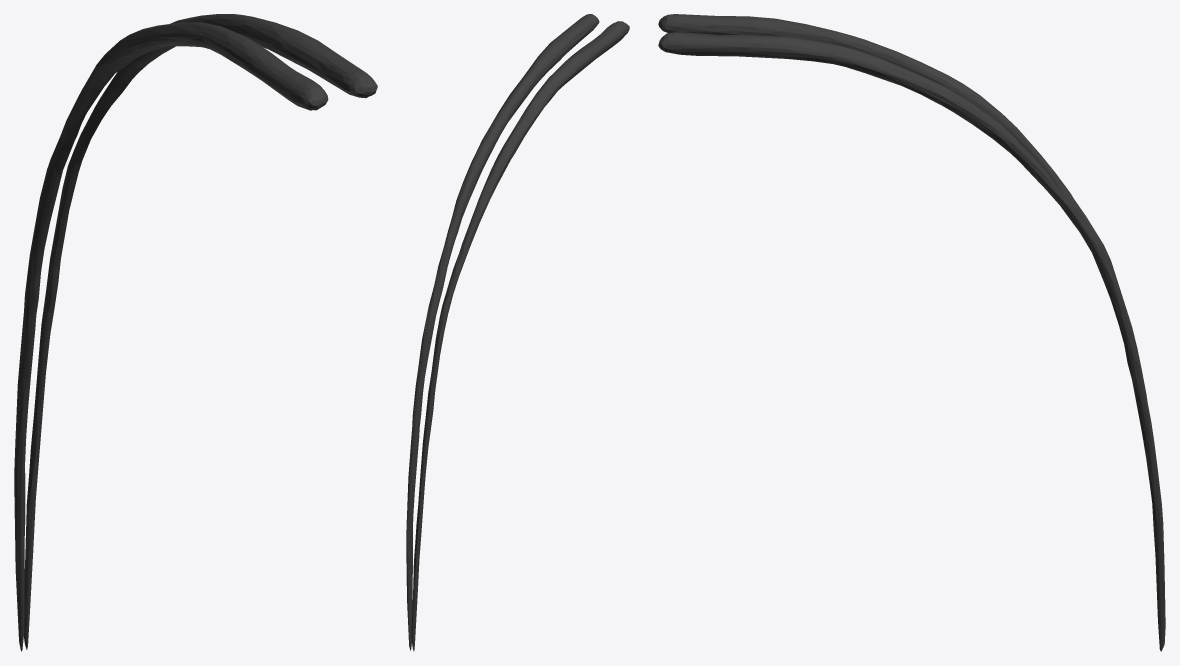
Rendered from m_sacrocaudalis_ventralis_medialis.glb.
3 views of the same model, side by side, from view 1: azimuth 30°, elevation 25°; view 2: azimuth 150°, elevation 25°; view 3: azimuth 270°, elevation 25° (orthographic). The views are drawn at different scales.
Parts seen in each view (by area): view 1: m_sacrocaudalis_ventralis_medialis; view 2: m_sacrocaudalis_ventralis_medialis; view 3: m_sacrocaudalis_ventralis_medialis.
Boxes of the visible parts, x1,y1,x2,y2 form: m_sacrocaudalis_ventralis_medialis: (14, 14, 377, 651); m_sacrocaudalis_ventralis_medialis: (406, 14, 629, 651); m_sacrocaudalis_ventralis_medialis: (658, 14, 1165, 651).
Size of the model in its own units: 0.000662 by 0.00675 by 0.00495.
1 material, 1 textured.
